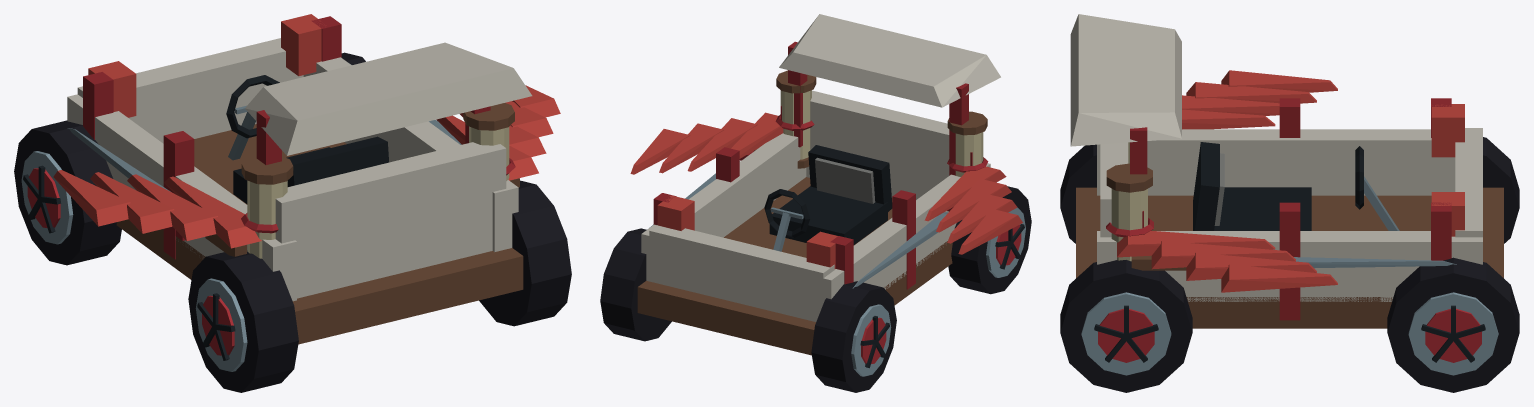
Rendered from kart.glb.
The picture shows the model from 3 angles, left to right: view 1: azimuth 30°, elevation 25°; view 2: azimuth 150°, elevation 25°; view 3: azimuth 270°, elevation 25°; orthographic projection. The views are drawn at different scales.
Visible parts, largest first — view 1: identity-carriage-carriage-timber-coach, wheel-rear-left, identity-carriage-motif-wings-feather, wheel-front-left, wheel-rear-right, identity-carriage-motif-scrolls, identity-carriage-driver-cockpit, identity-carriage-motif-swords; view 2: identity-carriage-carriage-timber-coach, identity-carriage-motif-wings-feather, identity-carriage-driver-cockpit, wheel-front-left, wheel-rear-left, wheel-front-right, identity-carriage-motif-scrolls, identity-carriage-motif-swords; view 3: identity-carriage-carriage-timber-coach, wheel-front-right, identity-carriage-motif-wings-feather, wheel-rear-right, identity-carriage-driver-cockpit, identity-carriage-motif-scrolls, wheel-front-left, wheel-rear-left, identity-carriage-motif-swords.
Part boxes in pixels (x1,y1,x2,y2): identity-carriage-carriage-timber-coach: (67,14,532,344); wheel-rear-left: (188,250,298,392); identity-carriage-motif-wings-feather: (53,85,560,248); wheel-front-left: (14,120,121,265); wheel-rear-right: (479,180,571,326); identity-carriage-motif-scrolls: (241,103,515,258); identity-carriage-driver-cockpit: (226,75,388,203); identity-carriage-motif-swords: (67,63,519,256); identity-carriage-carriage-timber-coach: (637,14,1000,355); identity-carriage-motif-wings-feather: (630,112,1022,254); identity-carriage-driver-cockpit: (764,145,892,251); wheel-front-left: (811,281,896,392); wheel-rear-left: (948,186,1031,294); wheel-front-right: (600,228,671,341); identity-carriage-motif-scrolls: (775,70,988,176); identity-carriage-motif-swords: (647,149,953,288); identity-carriage-carriage-timber-coach: (1070,14,1503,328); wheel-front-right: (1387,257,1519,392); identity-carriage-motif-wings-feather: (1117,70,1337,292); wheel-rear-right: (1060,260,1192,392); identity-carriage-driver-cockpit: (1193,142,1399,230); identity-carriage-motif-scrolls: (1106,142,1153,261); wheel-front-left: (1483,137,1519,243); wheel-rear-left: (1060,144,1096,243); identity-carriage-motif-swords: (1131,255,1456,270).
Bounding box in the file's own units: 2.88 × 1.63 × 2.64.
